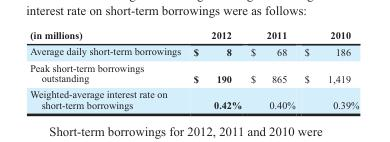table: (29, 29, 358, 110)
table column: (29, 29, 186, 110), (186, 29, 245, 110), (299, 29, 358, 110), (245, 29, 299, 110)
table column header: (29, 29, 358, 42)
table row: (29, 59, 358, 86), (29, 86, 358, 110), (29, 42, 358, 59), (29, 29, 358, 42)
